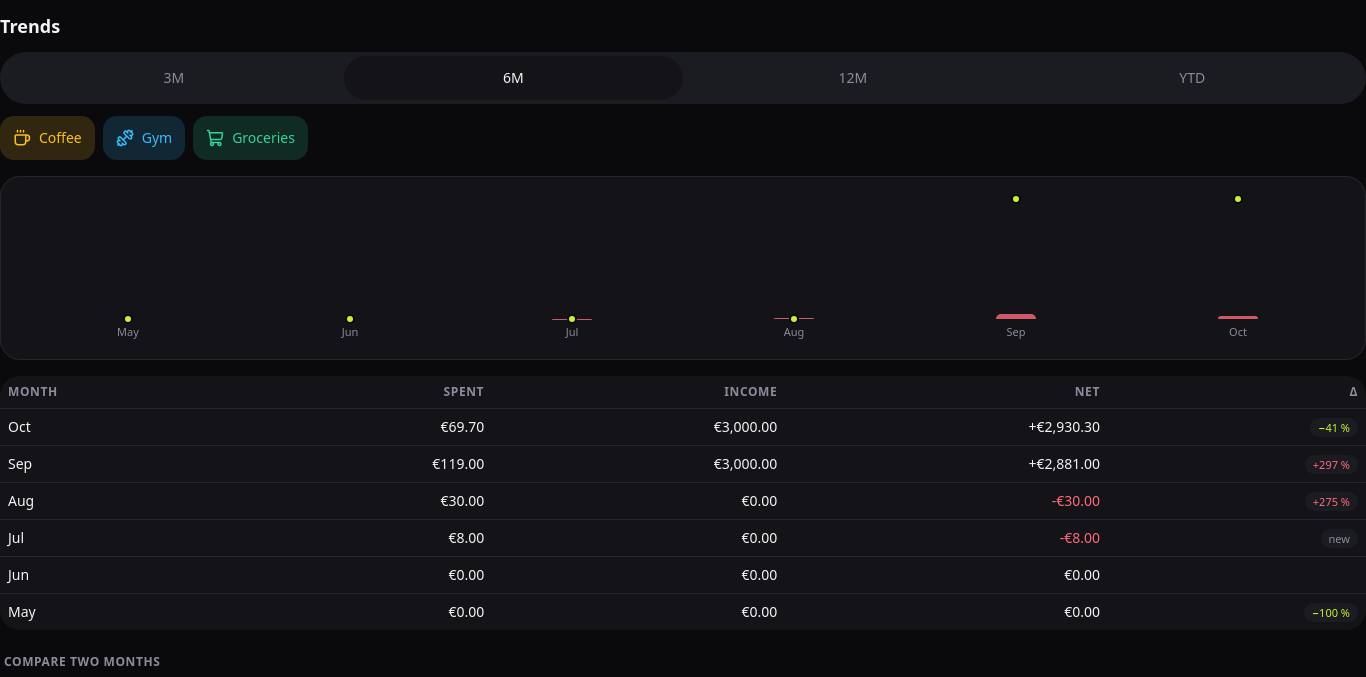
Test: TrendsPage › drops the tapped month once the range no longer shows it
Click the button "May" at (128, 268), box [17,193,239,343]
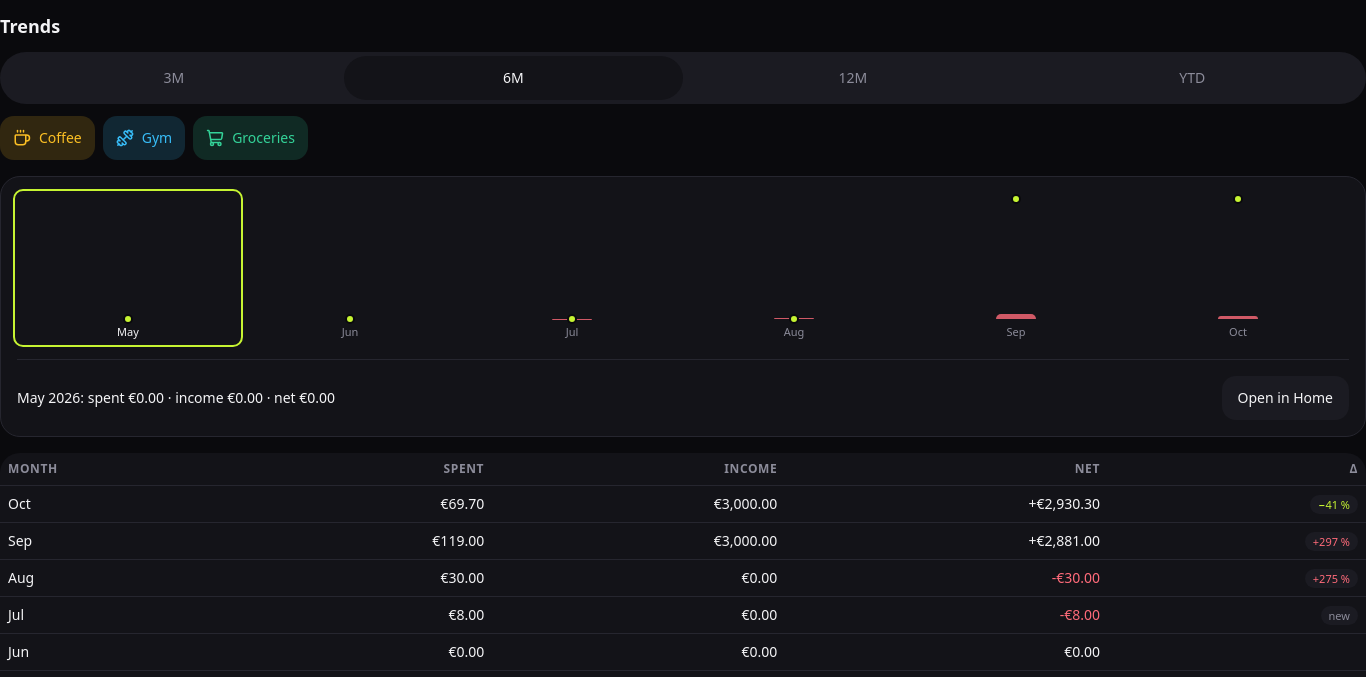
Click the radio button labelled "3M" at (174, 78), box [4,56,344,100]
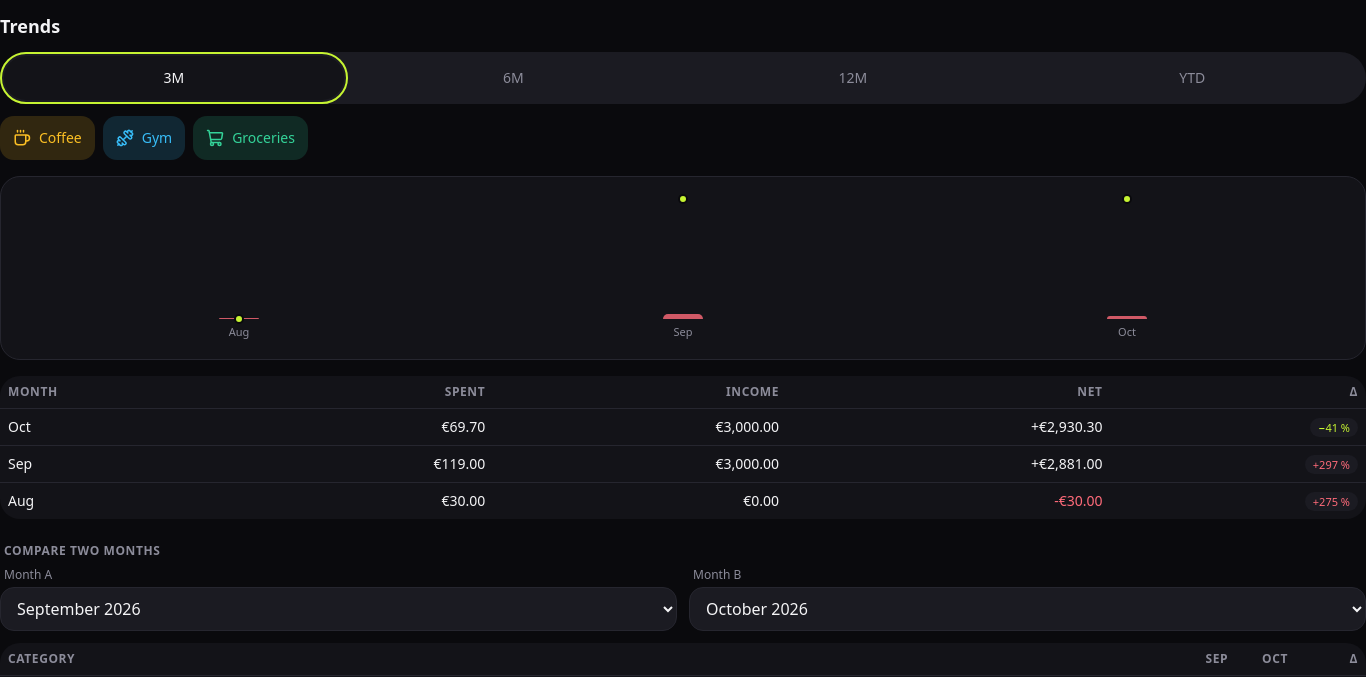
Check: the link "Open in Home" is gone
Check: the text "May 2026:" is gone
